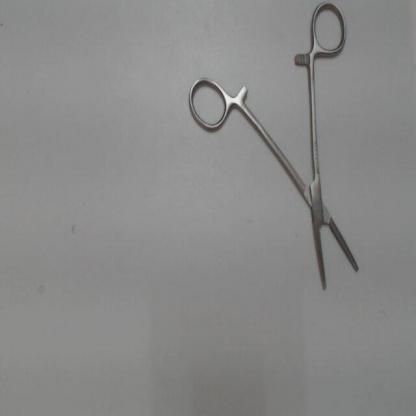Mayo Needle Holder: (184, 1, 372, 311)
